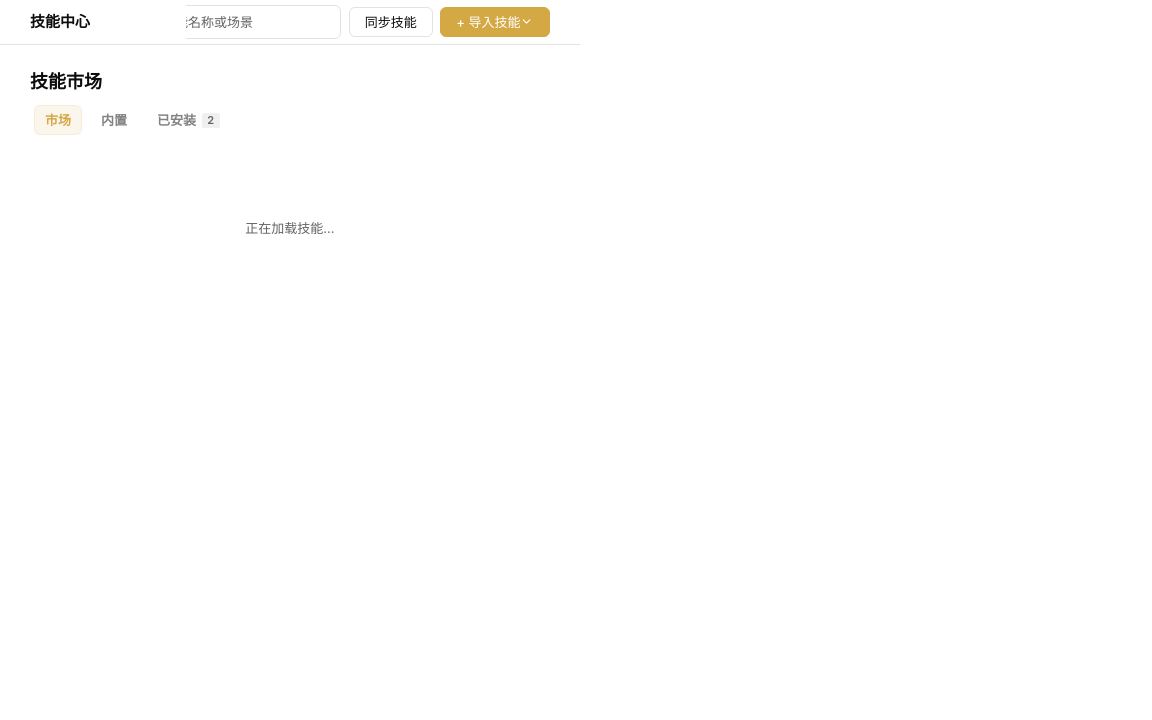
it: SkillCenterPage › upload 抛出 SkillValidationError 时弹校验结果对话框
The width and height of the screenshot is (1152, 720).
Press the mouse on the button "+ 导入技能" at (495,22), box 440,7 -> 550,37
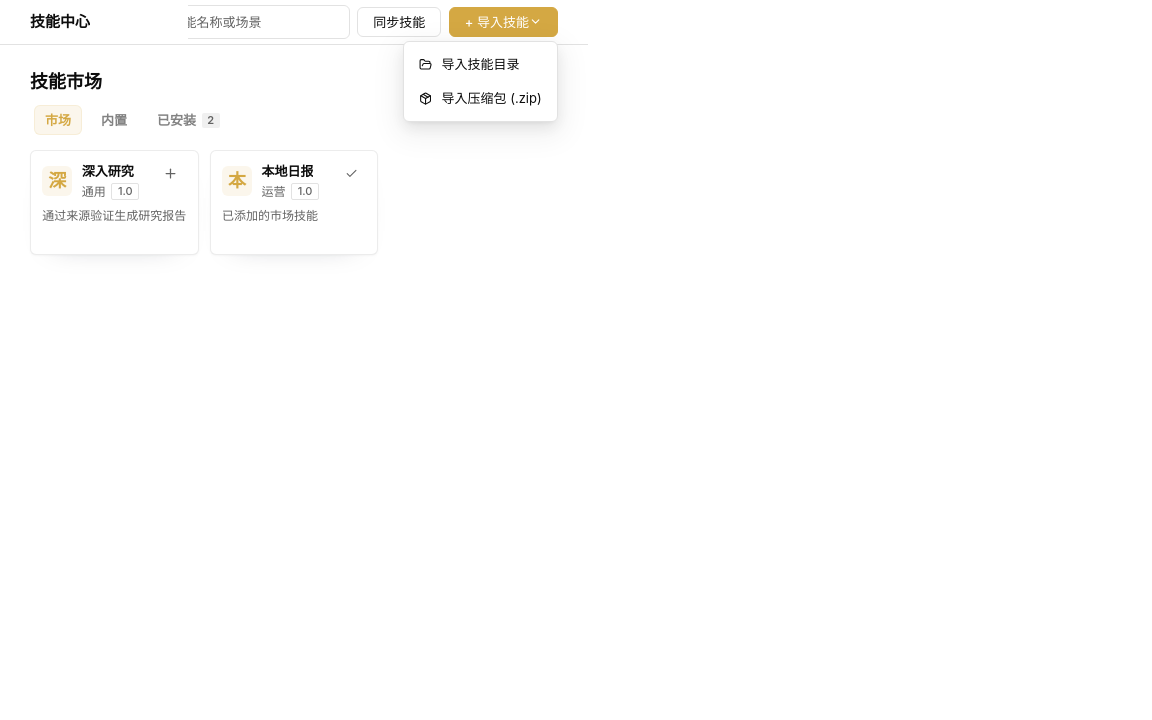
Click the menu item "导入技能目录" at (469,64), box 419,56 -> 520,72
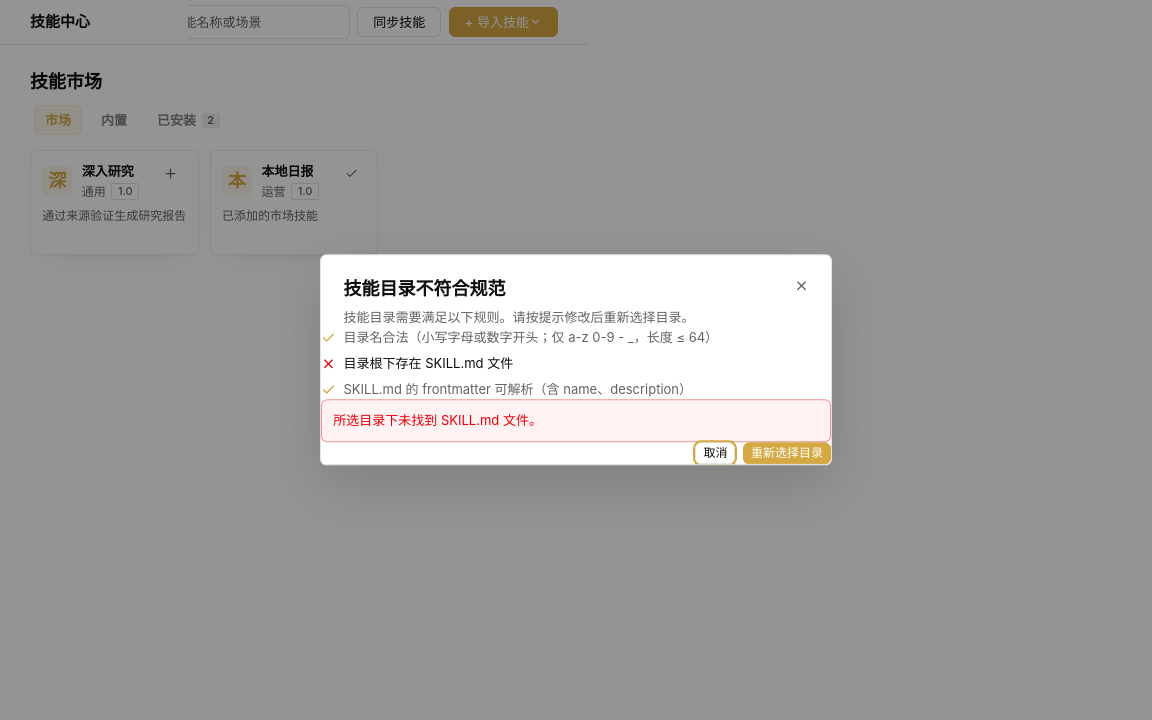
Expected: the heading "技能目录不符合规范" is shown, 344,278 -> 506,299
Expected: the text "所选目录下未找到 SKILL.md 文件。" is shown, 321,399 -> 831,442
Expected: the button "重新选择目录" is shown, 743,442 -> 831,465
